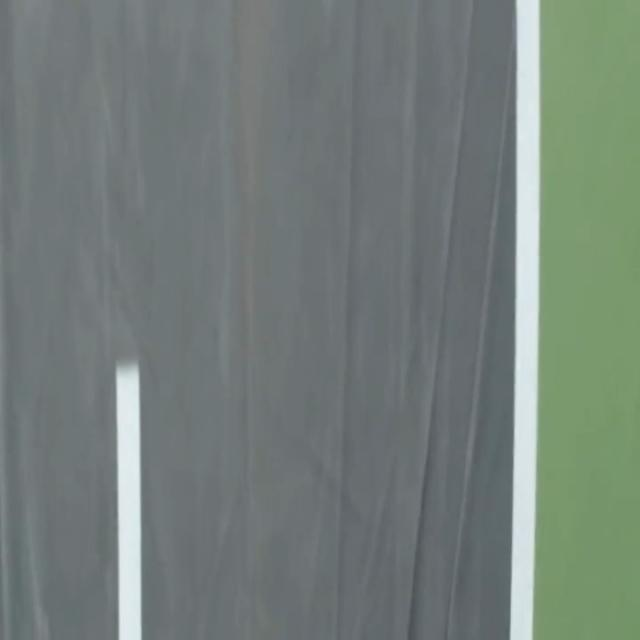center: (116, 362, 141, 639)
right: (509, 0, 540, 639)
